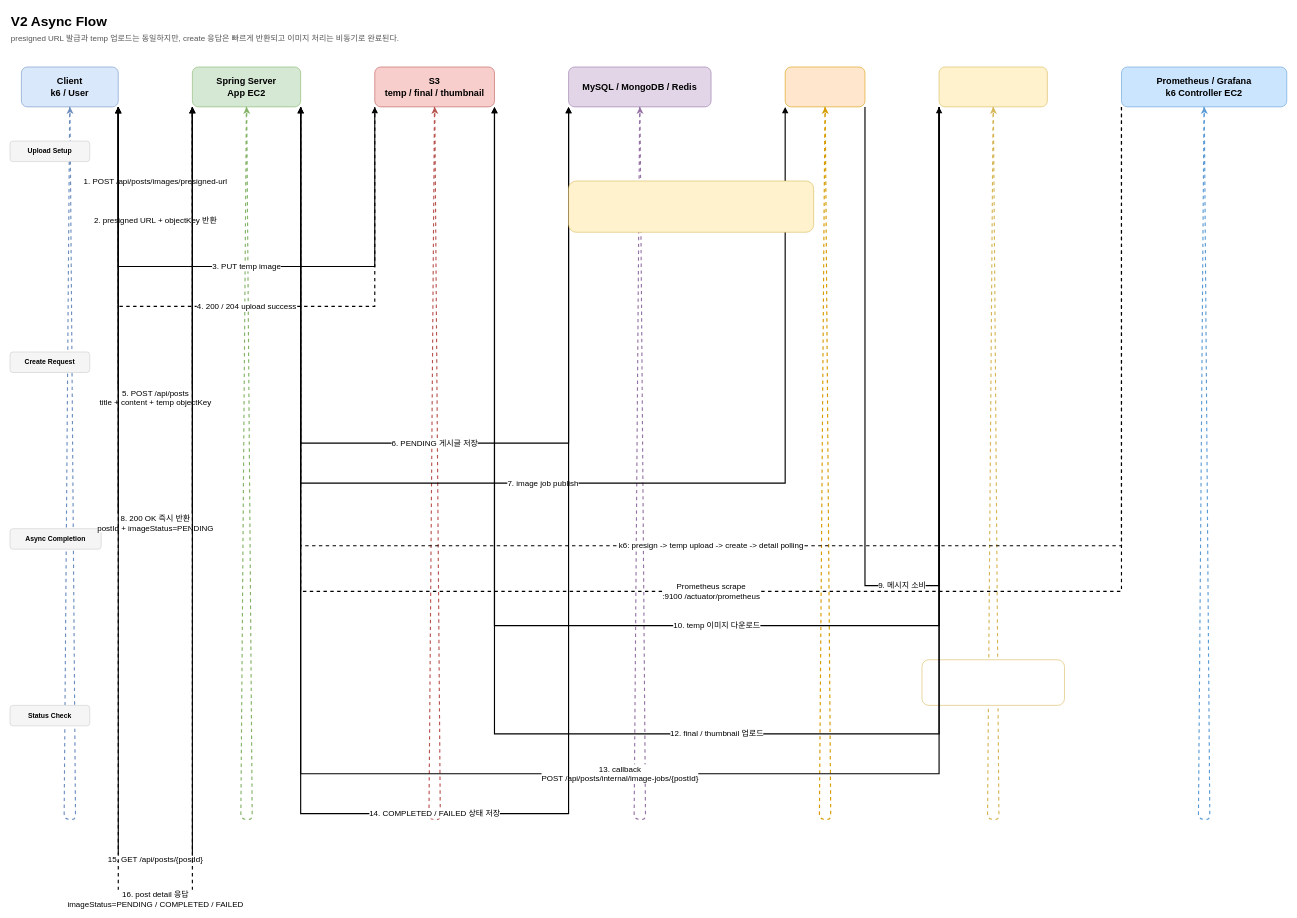
This 1297x918 diagram has some shape labels left out. Here are the shapes that lost their labels. From the top down, the centre of each, then its label:
the point at 825,86: SQS
the point at 993,86: Lambda Worker
the point at 691,206: 핵심: create 응답은 빨라지지만, 완료 확인은 별도 polling 흐름과 async completion 흐름으로 분리된다.
the point at 992,682: 11. Lambda 내부 처리 resize + compress + thumbnail 생성
